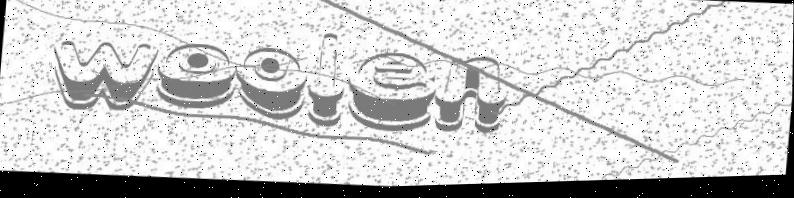e: (345, 45, 439, 139)
l: (307, 32, 350, 129)
n: (435, 53, 507, 137)
o: (231, 45, 311, 124), (157, 39, 238, 113)
w: (45, 33, 158, 119)
